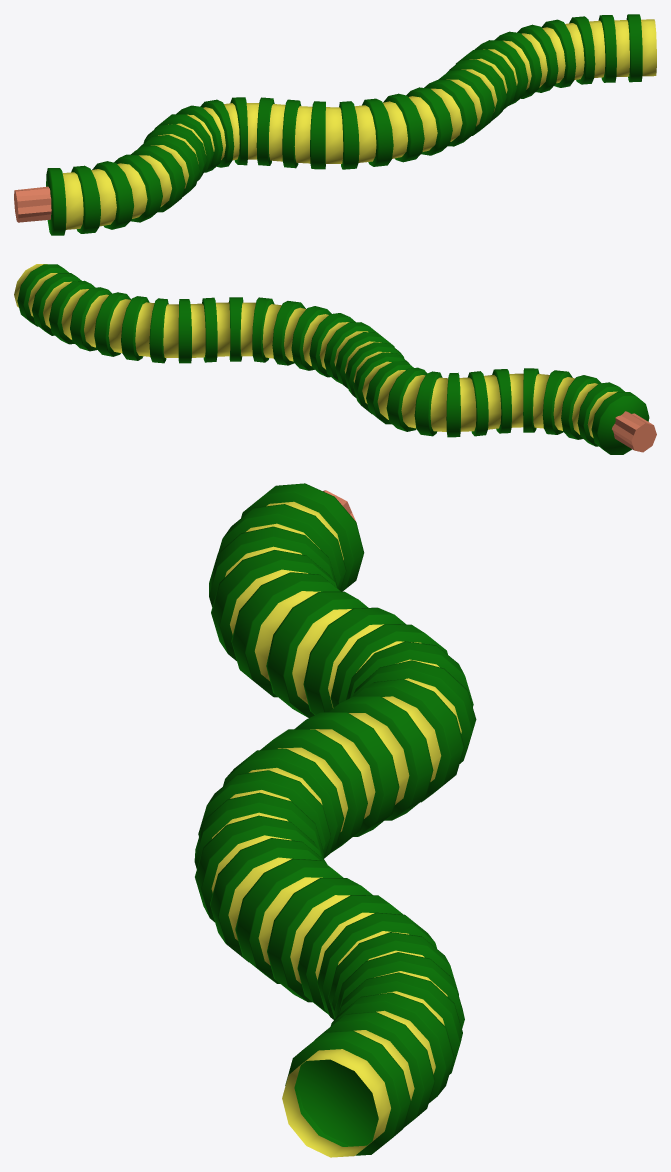
Rendered from GroundWire_01.fbx.
The picture shows the model from 3 angles, top to bottom: view 1: azimuth 30°, elevation 25°; view 2: azimuth 150°, elevation 25°; view 3: azimuth 270°, elevation 25°; orthographic projection. The views are drawn at different scales.
Visible parts, largest first — view 1: Positive.003; view 2: Positive.003; view 3: Positive.003.
Boxes of the visible parts, bbox=[...] form: Positive.003: bbox=[14, 14, 656, 235]; Positive.003: bbox=[14, 264, 656, 454]; Positive.003: bbox=[194, 483, 476, 1157].
Size of the model in its own units: 319 by 28.59 by 62.43.
